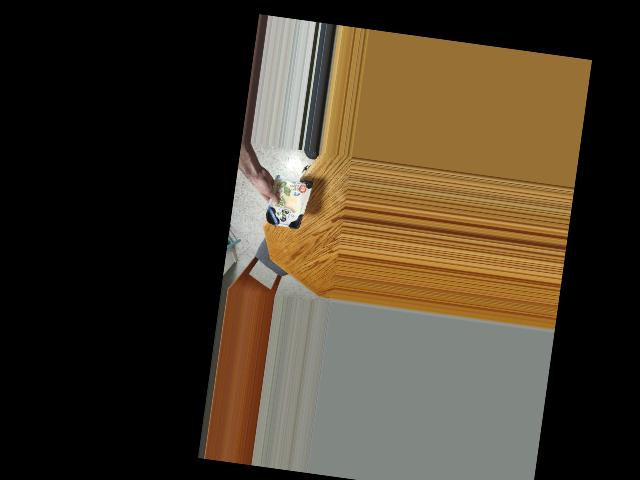cheese: (261, 168, 313, 237)
